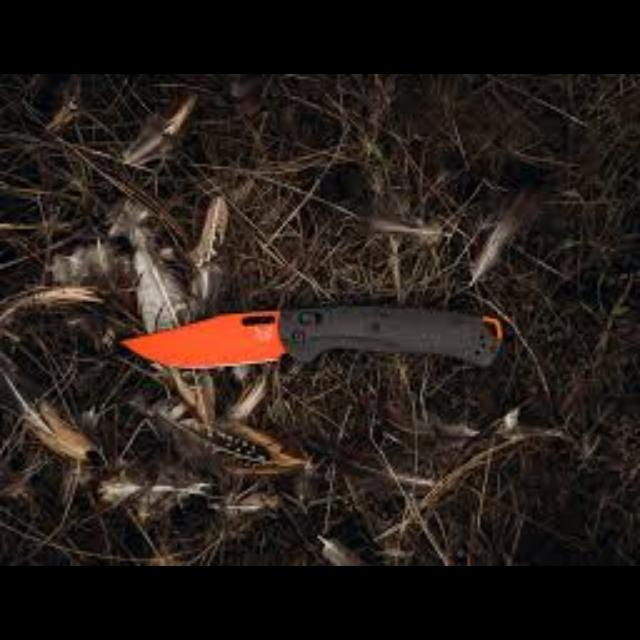knife: (118, 304, 502, 368)
